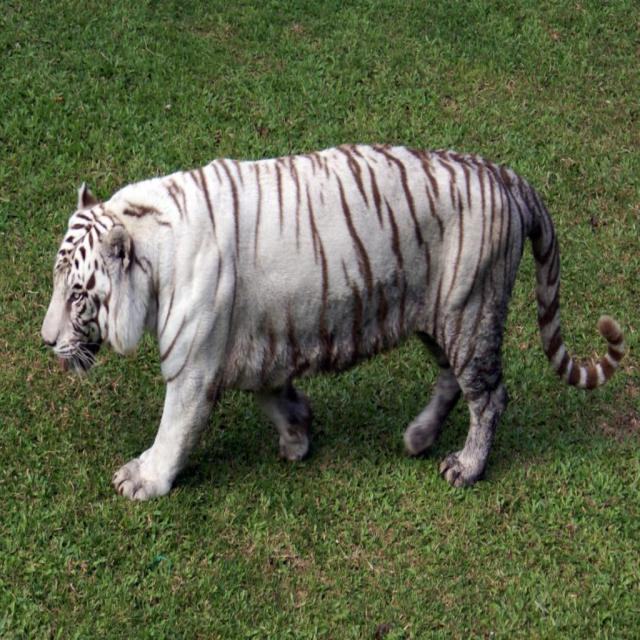Tiger: (39, 138, 625, 504)
